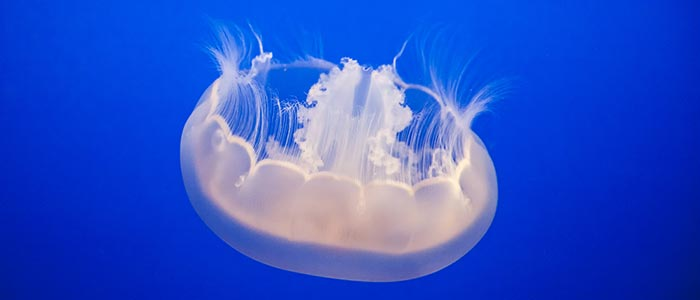jellyfish: (176, 9, 504, 285)
